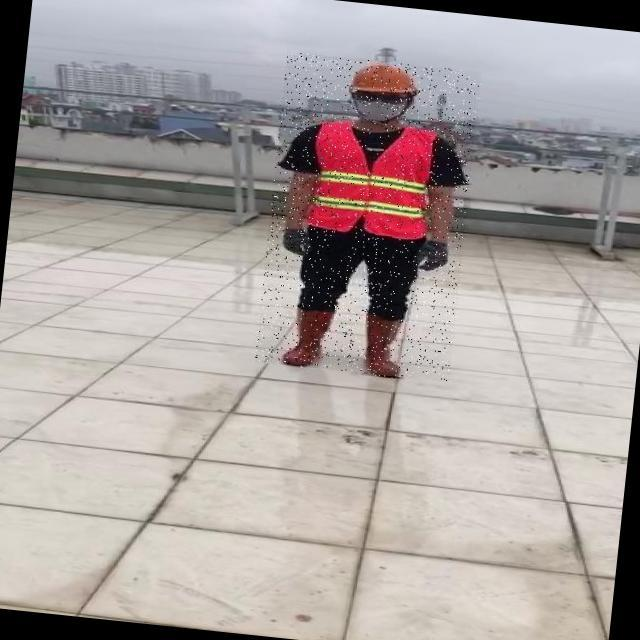Gloves: (282, 224, 321, 259), (417, 238, 452, 273)
Helmet: (349, 61, 422, 98)
Human: (255, 51, 483, 382)
Safety Boot: (285, 304, 335, 370), (361, 313, 410, 379)
Safety Vest: (310, 117, 443, 241)
